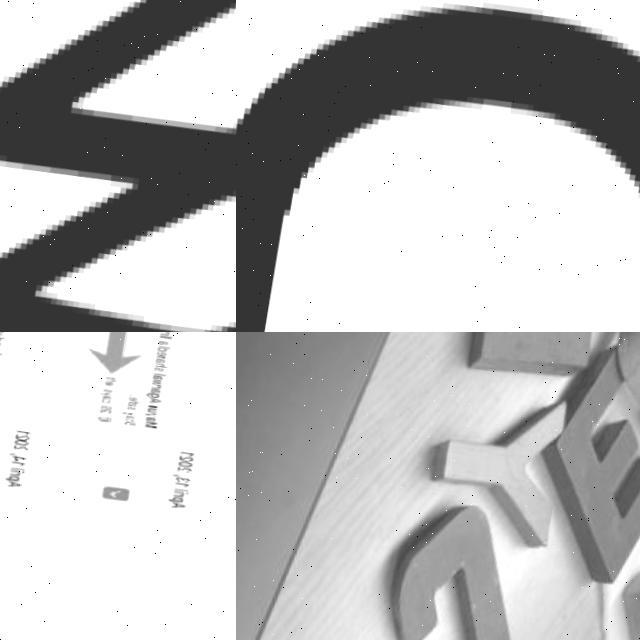0: (177, 462, 194, 470), (12, 440, 29, 448)
1: (11, 461, 25, 468), (179, 453, 195, 459), (15, 430, 31, 436), (175, 484, 189, 490)
2: (178, 456, 195, 464), (14, 434, 31, 442), (13, 445, 28, 454), (177, 468, 192, 476), (98, 409, 111, 416)
3: (174, 477, 191, 485)
4: (10, 455, 27, 463)
9: (100, 405, 111, 412)
D: (236, 0, 640, 332)
E: (547, 351, 640, 580)
J: (379, 478, 543, 640)
K: (459, 332, 615, 403)
W: (0, 0, 236, 332)
Y: (420, 384, 577, 556)
